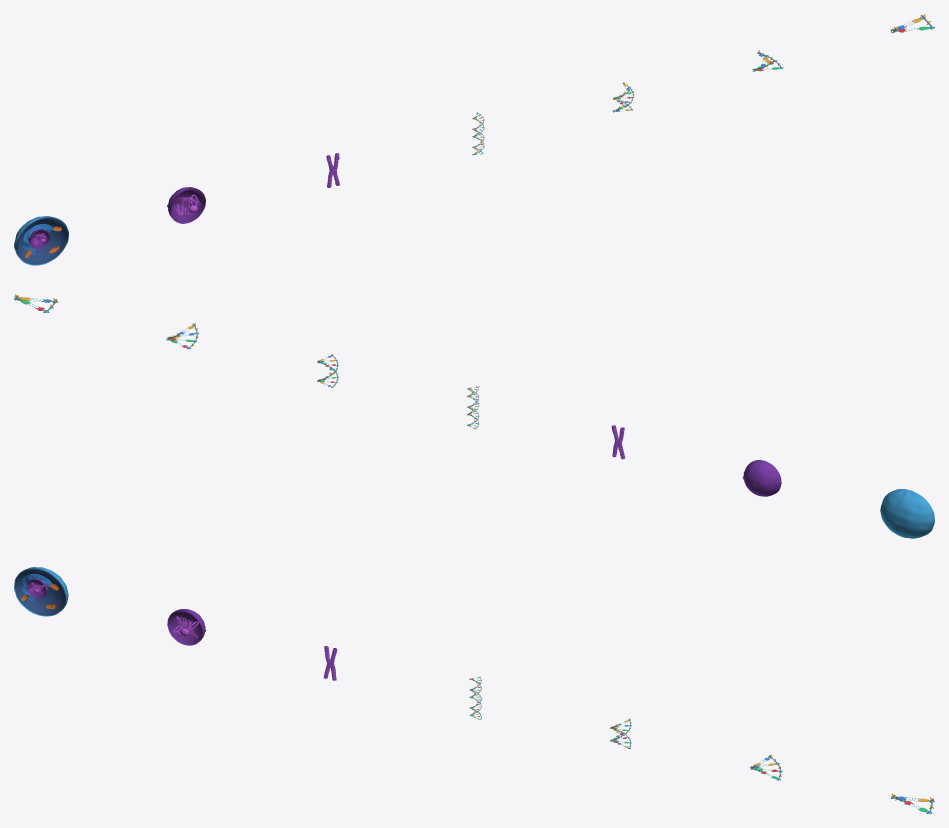
File: nested_biology_model.glb
3 renders of one model, top to bottom at view 1: azimuth 30°, elevation 25°; view 2: azimuth 150°, elevation 25°; view 3: azimuth 330°, elevation 25°, orthographic.
Parts seen in each view (by area): view 1: cytoplasm, nucleus_nuclear_interior; view 2: cell_membrane, nucleus_nuclear_envelope; view 3: cytoplasm, nucleus_nuclear_interior.
Boxes of the visible parts, x1,y1,x2,y2 form: cytoplasm: [16, 217, 67, 264]; nucleus_nuclear_interior: [170, 188, 204, 222]; cell_membrane: [880, 489, 934, 538]; nucleus_nuclear_envelope: [743, 460, 781, 496]; cytoplasm: [15, 568, 66, 615]; nucleus_nuclear_interior: [168, 610, 203, 644].
Size of the model in its own units: 190 by 9.2 by 6.52.
